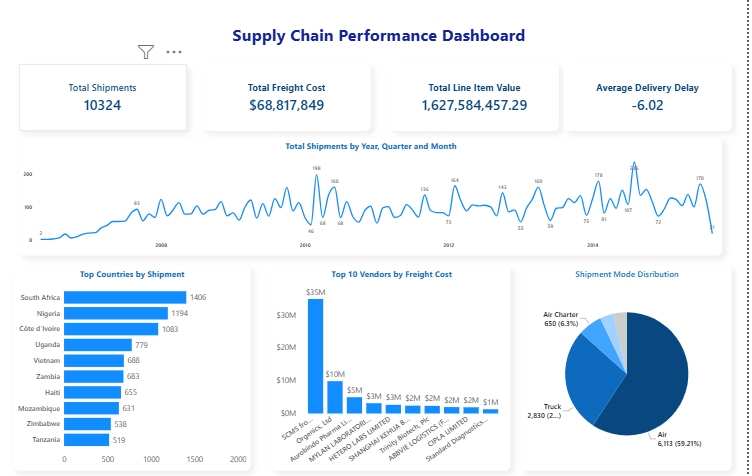

What the dashboard file says about the page in this screenshot:
{"tool":"powerbi","page":{"name":"Page 1","canvas":[1700,1100],"ordinal":0},"visuals":[{"type":"textbox","title":"Supply Chain Performance Dashboard","box":[0,0,1665.4,134.2],"z":0},{"type":"cardVisual","fields":{"Data":["SCMS Delivery History Dataset.Total Shipments"]},"box":[46.2,147.4,380.6,151.8],"z":1},{"type":"clusteredBarChart","title":"Top Countries by Shipment","fields":{"Category":["SCMS Delivery History Dataset.Country"],"Y":["SCMS Delivery History Dataset.Total Shipments"]},"box":[30.9,606.3,540.2,465.2],"z":4},{"type":"lineChart","fields":{"Category":["SCMS Delivery History Dataset.Delivered to Client Date.Variation.Date Hierarchy.Year","SCMS Delivery History Dataset.Delivered to Client Date.Variation.Date Hierarchy.Quarter","SCMS Delivery History Dataset.Delivered to Client Date.Variation.Date Hierarchy.Month","SCMS Delivery History Dataset.Delivered to Client Date.Variation.Date Hierarchy.Day"],"Y":["SCMS Delivery History Dataset.Total Shipments"]},"box":[46.3,315.3,1598.4,266.8],"z":5},{"type":"pieChart","title":"Shipment Mode Disribution","fields":{"Category":["SCMS Delivery History Dataset.Shipment Mode"],"Y":["CountNonNull(SCMS Delivery History Dataset.ID)"]},"box":[1188.3,606.3,476.2,465.2],"z":6},{"type":"columnChart","title":"Top 10 Vendors by Freight Cost","fields":{"Category":["SCMS Delivery History Dataset.Vendor"],"Y":["SCMS Delivery History Dataset.Total Freight Cost"]},"box":[619.5,606.3,542.4,465.2],"z":7},{"type":"cardVisual","fields":{"Data":["SCMS Delivery History Dataset.Total Freight Cost"]},"box":[464.2,147.4,380.6,151.8],"z":8},{"type":"cardVisual","fields":{"Data":["SCMS Delivery History Dataset.Total Line Item Value"]},"box":[891,147.4,380.6,151.8],"z":9},{"type":"cardVisual","fields":{"Data":["Avg(SCMS Delivery History Dataset.Delivery Delay)"]},"box":[1284.8,147.4,380.6,151.8],"z":10}]}

Visuals, with their boxes in screenshot pixels (x1, y1, x2, y2), scaled from the page's 1700x1100 canvas onto the 752x476 screenshot:
"Supply Chain Performance Dashboard" textbox: [0, 0, 737, 58]
cardVisual - SCMS Delivery History Dataset.Total Shipments: [20, 64, 189, 129]
"Top Countries by Shipment" clusteredBarChart: [14, 262, 253, 464]
lineChart - SCMS Delivery History Dataset.Delivered to Client Date.Variation.Date Hierarchy.Year x SCMS Delivery History Dataset.Delivered to Client Date.Variation.Date Hierarchy.Quarter: [20, 136, 728, 252]
"Shipment Mode Disribution" pieChart: [526, 262, 736, 464]
"Top 10 Vendors by Freight Cost" columnChart: [274, 262, 514, 464]
cardVisual - SCMS Delivery History Dataset.Total Freight Cost: [205, 64, 374, 129]
cardVisual - SCMS Delivery History Dataset.Total Line Item Value: [394, 64, 562, 129]
cardVisual - Avg(SCMS Delivery History Dataset.Delivery Delay): [568, 64, 737, 129]
